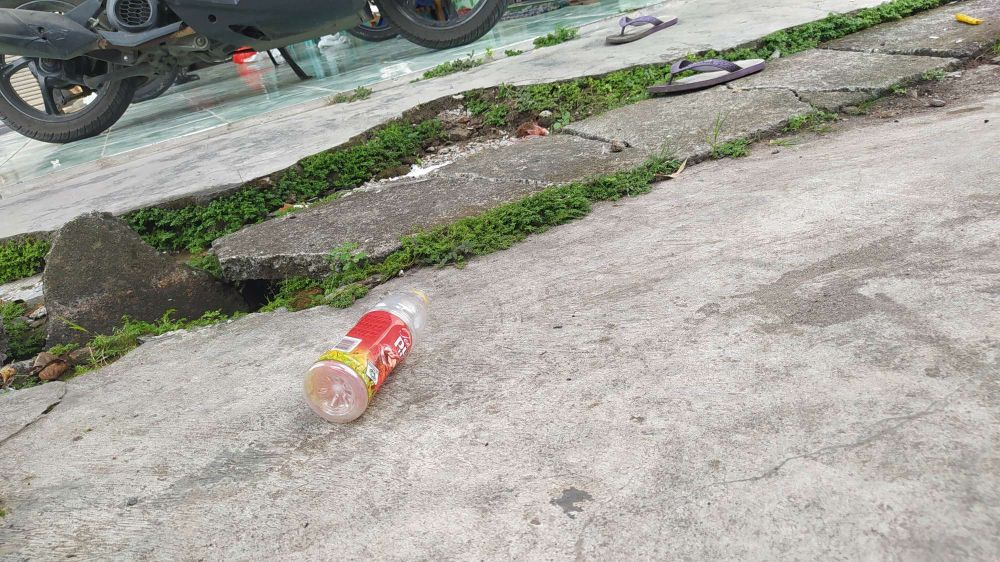botol: (299, 268, 432, 423)
